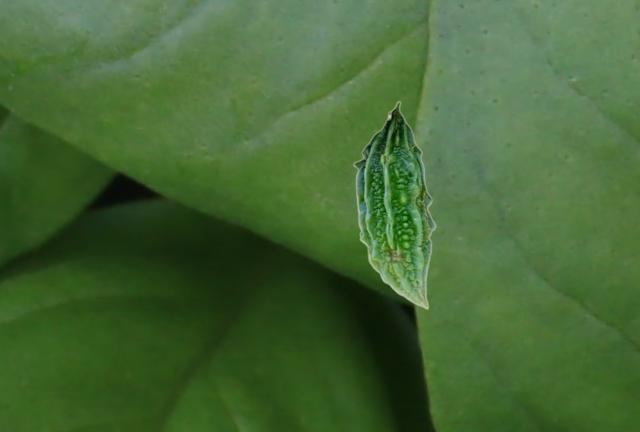ampalaya: (352, 100, 438, 310)
